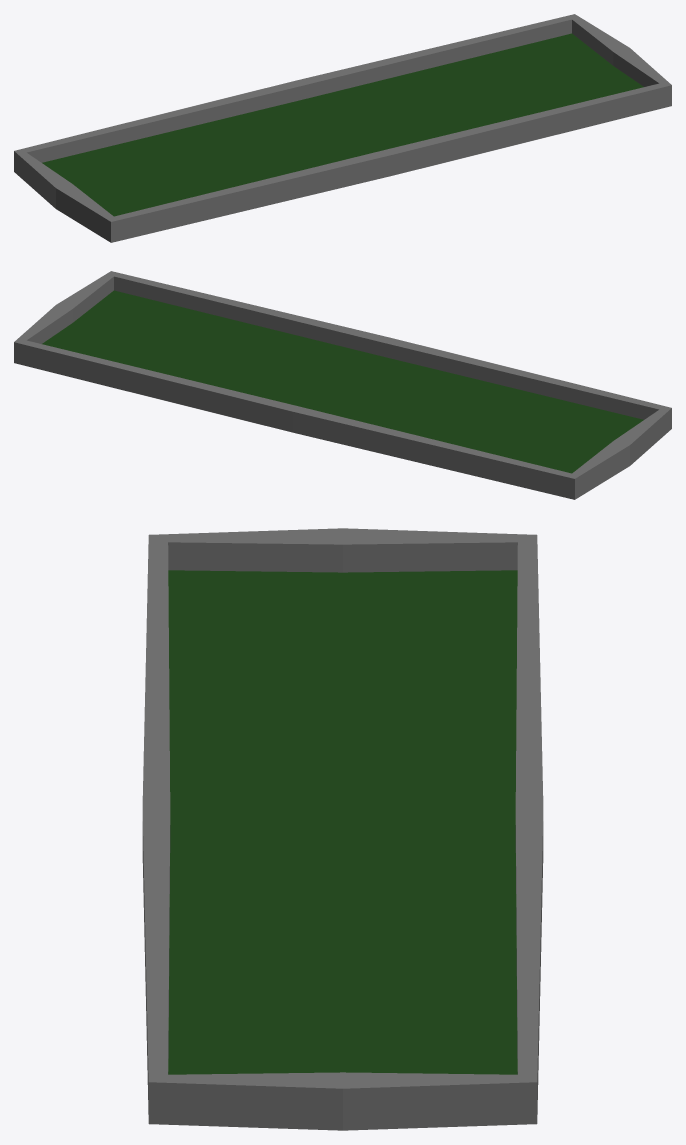
Rendered from GrassRectangleGray.obj.
3 renders of one model, top to bottom at view 1: azimuth 30°, elevation 25°; view 2: azimuth 150°, elevation 25°; view 3: azimuth 270°, elevation 25°, orthographic. The views are drawn at different scales.
Visible parts, largest first — view 1: trawka.003; view 2: trawka.003; view 3: trawka.003.
Part boxes in pixels (bbox=[...]): trawka.003: bbox=[14, 14, 671, 242]; trawka.003: bbox=[14, 271, 671, 499]; trawka.003: bbox=[142, 528, 543, 1130].
Size of the model in its own units: 17.2 by 0.6 by 5.2.
